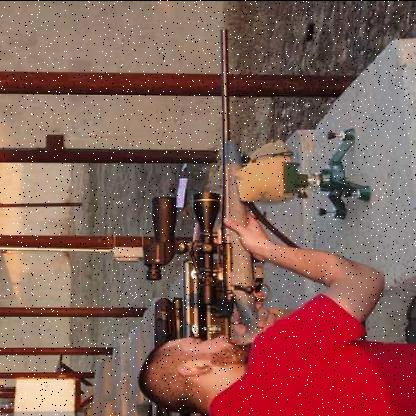rifle: (173, 16, 288, 330)
